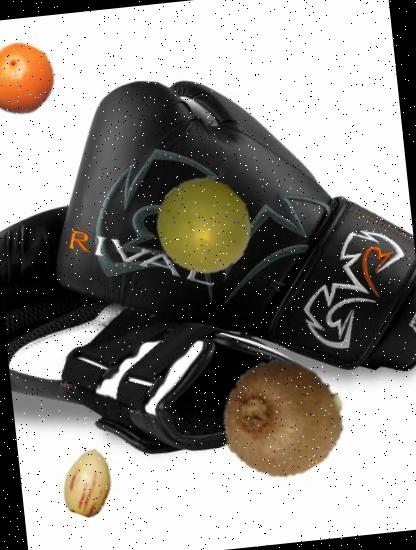Grape: (150, 172, 258, 280)
Grapefruit: (0, 39, 59, 119)
Kiwi: (214, 351, 348, 484)
Pepino: (51, 445, 126, 519)
